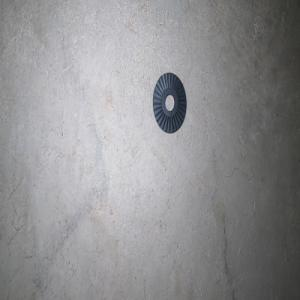Washer: (152, 72, 186, 133)
